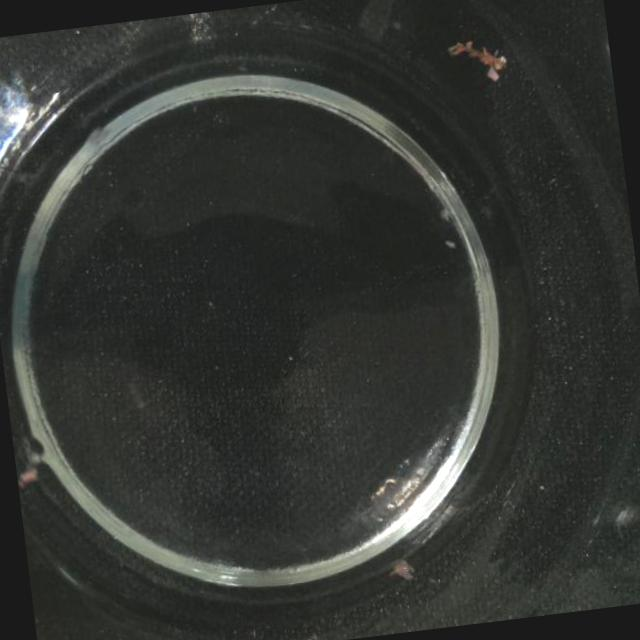fiber: (448, 31, 511, 86), (12, 434, 50, 488), (181, 10, 225, 53), (391, 554, 415, 580)
